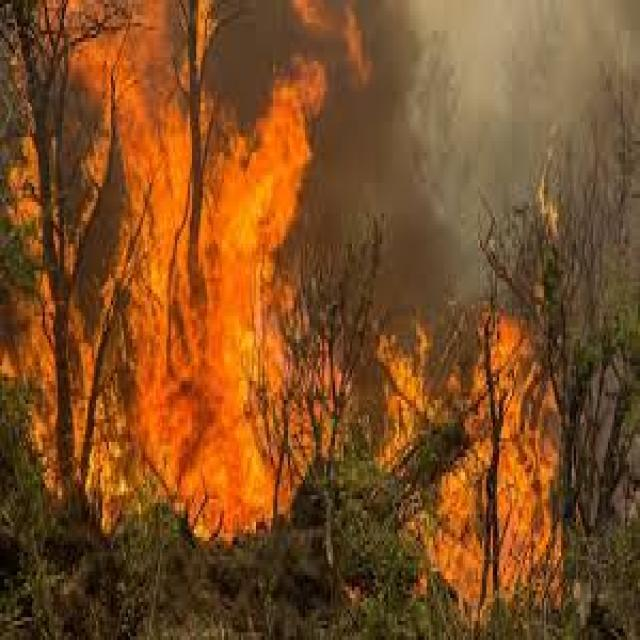Fire: (53, 1, 322, 554), (420, 356, 568, 610), (0, 122, 90, 450), (470, 338, 532, 556), (383, 339, 422, 462)
Smoke: (368, 47, 582, 236), (319, 125, 382, 342), (216, 6, 272, 88)
